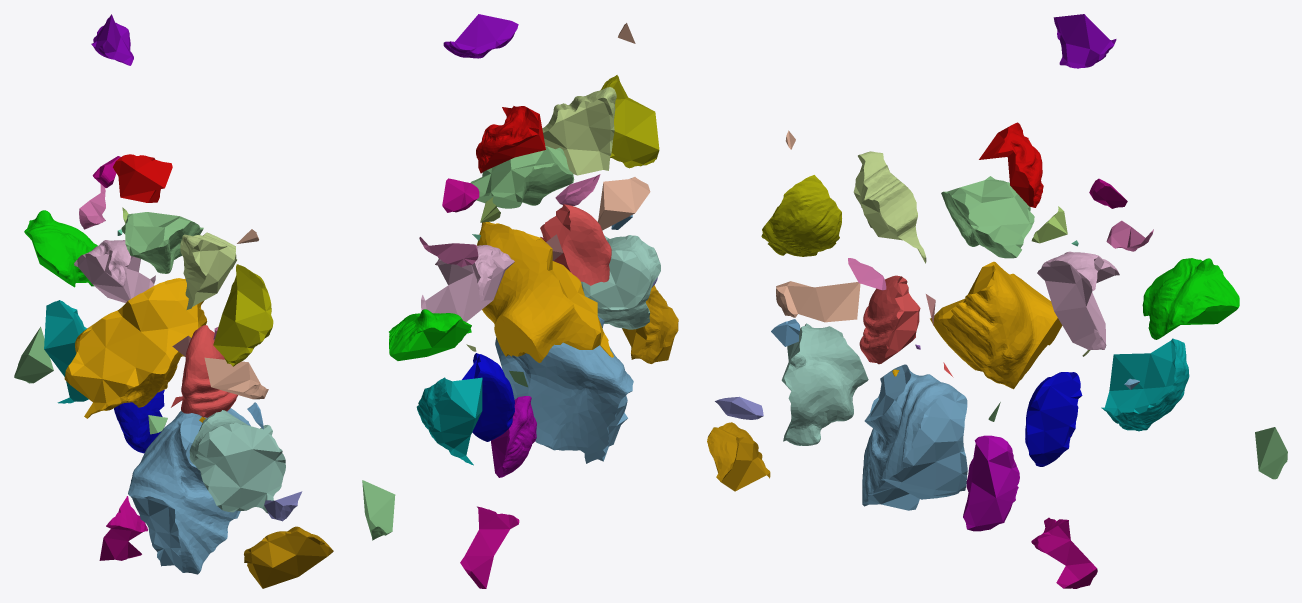
File: fractured_51_37pcs_transformed.glb
The picture shows the model from 3 angles, left to right: view 1: azimuth 30°, elevation 25°; view 2: azimuth 150°, elevation 25°; view 3: azimuth 270°, elevation 25°; orthographic projection. The views are drawn at different scales.
Parts seen in each view (by area): view 1: piece_0.obj, piece_2.obj, piece_4.obj, piece_11.obj, piece_17.obj, piece_3.obj, piece_6.obj, piece_8.obj, piece_5.obj, piece_1.obj, piece_13.obj, piece_9.obj (+8 smaller); view 2: piece_0.obj, piece_2.obj, piece_4.obj, piece_5.obj, piece_3.obj, piece_13.obj, piece_6.obj, piece_1.obj, piece_11.obj, piece_8.obj, piece_9.obj, piece_10.obj (+9 smaller); view 3: piece_2.obj, piece_0.obj, piece_4.obj, piece_13.obj, piece_8.obj, piece_3.obj, piece_6.obj, piece_11.obj, piece_12.obj, piece_5.obj, piece_10.obj, piece_1.obj (+8 smaller).
Part boxes in pixels (<box>): piece_0.obj: <box>64,278,207,418</box>; piece_2.obj: <box>128,408,250,574</box>; piece_4.obj: <box>189,410,285,513</box>; piece_11.obj: <box>213,264,273,366</box>; piece_17.obj: <box>244,526,333,588</box>; piece_3.obj: <box>121,212,203,273</box>; piece_6.obj: <box>74,240,155,303</box>; piece_8.obj: <box>24,210,97,287</box>; piece_5.obj: <box>180,232,237,309</box>; piece_1.obj: <box>181,325,237,417</box>; piece_13.obj: <box>44,300,88,403</box>; piece_9.obj: <box>113,154,172,202</box>; piece_0.obj: <box>477,222,613,362</box>; piece_2.obj: <box>495,316,633,463</box>; piece_4.obj: <box>581,235,660,329</box>; piece_5.obj: <box>542,87,616,175</box>; piece_3.obj: <box>470,145,574,208</box>; piece_13.obj: <box>416,377,482,465</box>; piece_6.obj: <box>421,245,514,321</box>; piece_1.obj: <box>540,204,611,285</box>; piece_11.obj: <box>600,75,659,168</box>; piece_8.obj: <box>389,309,471,360</box>; piece_9.obj: <box>476,106,545,173</box>; piece_10.obj: <box>462,353,514,441</box>; piece_2.obj: <box>862,364,967,510</box>; piece_0.obj: <box>930,261,1062,389</box>; piece_4.obj: <box>781,323,868,445</box>; piece_13.obj: <box>1101,338,1189,431</box>; piece_8.obj: <box>1142,258,1239,339</box>; piece_3.obj: <box>941,176,1034,258</box>; piece_6.obj: <box>1037,251,1119,349</box>; piece_11.obj: <box>761,175,841,256</box>; piece_12.obj: <box>963,435,1019,531</box>; piece_5.obj: <box>853,151,926,263</box>; piece_10.obj: <box>1025,372,1082,466</box>; piece_1.obj: <box>859,275,920,364</box>.
Bounding box in the file's own units: 0.5307 × 1.89 × 1.74.
